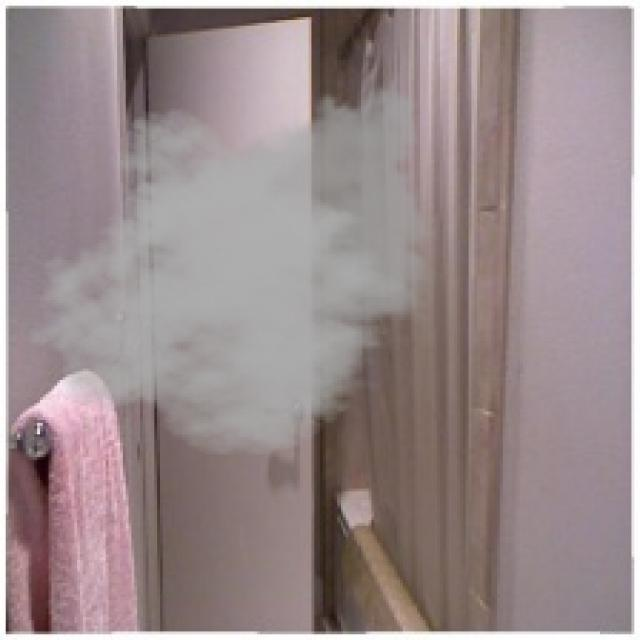Smoke: (26, 69, 443, 458)
